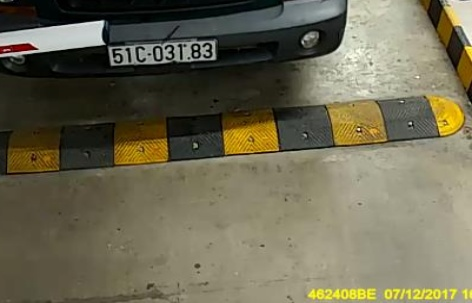plate: (101, 33, 224, 75)
